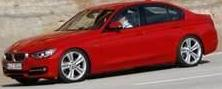front_view: (1, 47, 61, 81)
headlight: (29, 46, 60, 62)
side_glass: (102, 4, 188, 35)
